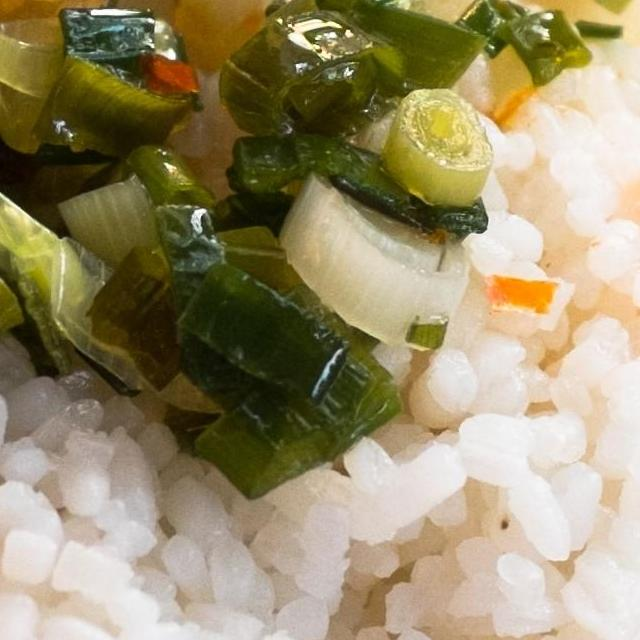com: (0, 0, 640, 640)
com suon: (0, 0, 640, 640)
dua chua: (471, 0, 640, 640)
